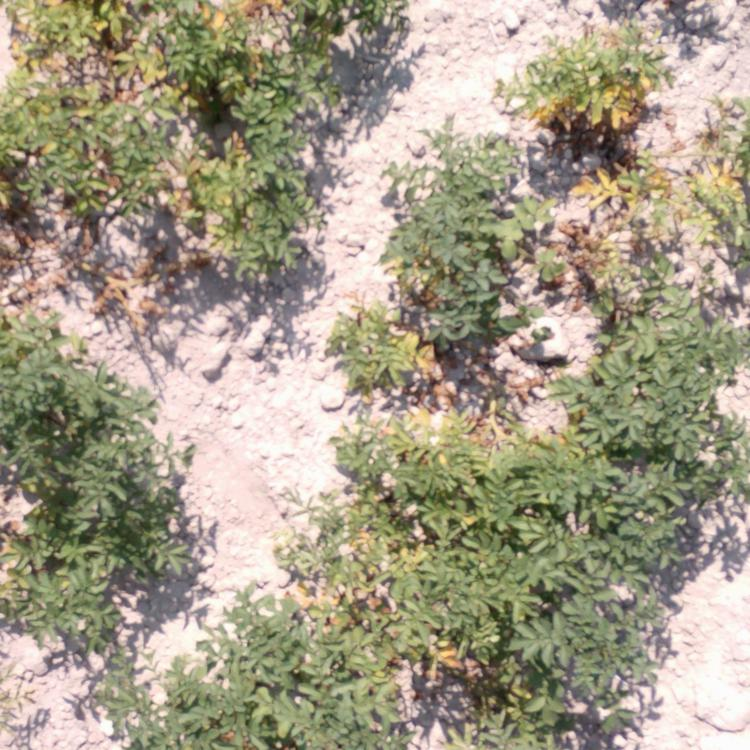healthy: (1, 305, 171, 646), (587, 328, 720, 699), (178, 603, 344, 740), (393, 133, 537, 251)
stressed: (8, 2, 306, 252), (358, 415, 578, 737), (573, 155, 746, 300), (332, 254, 480, 413), (501, 30, 674, 140)
